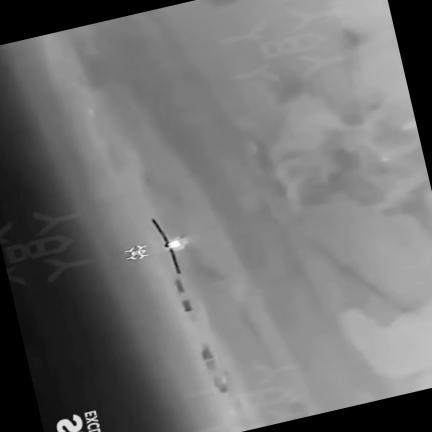Shahed: (151, 219, 188, 274)
